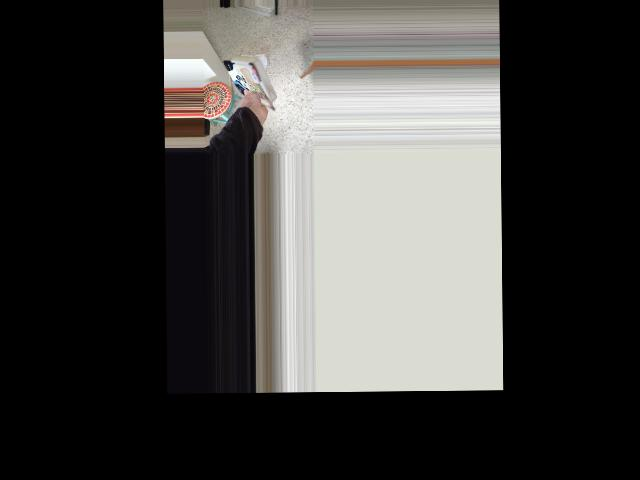cheese: (213, 53, 283, 124)
